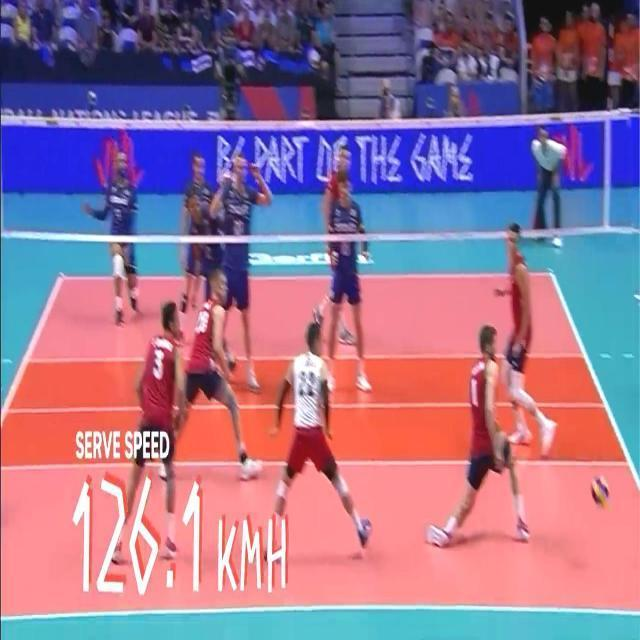volleyball: (592, 477, 608, 503)
